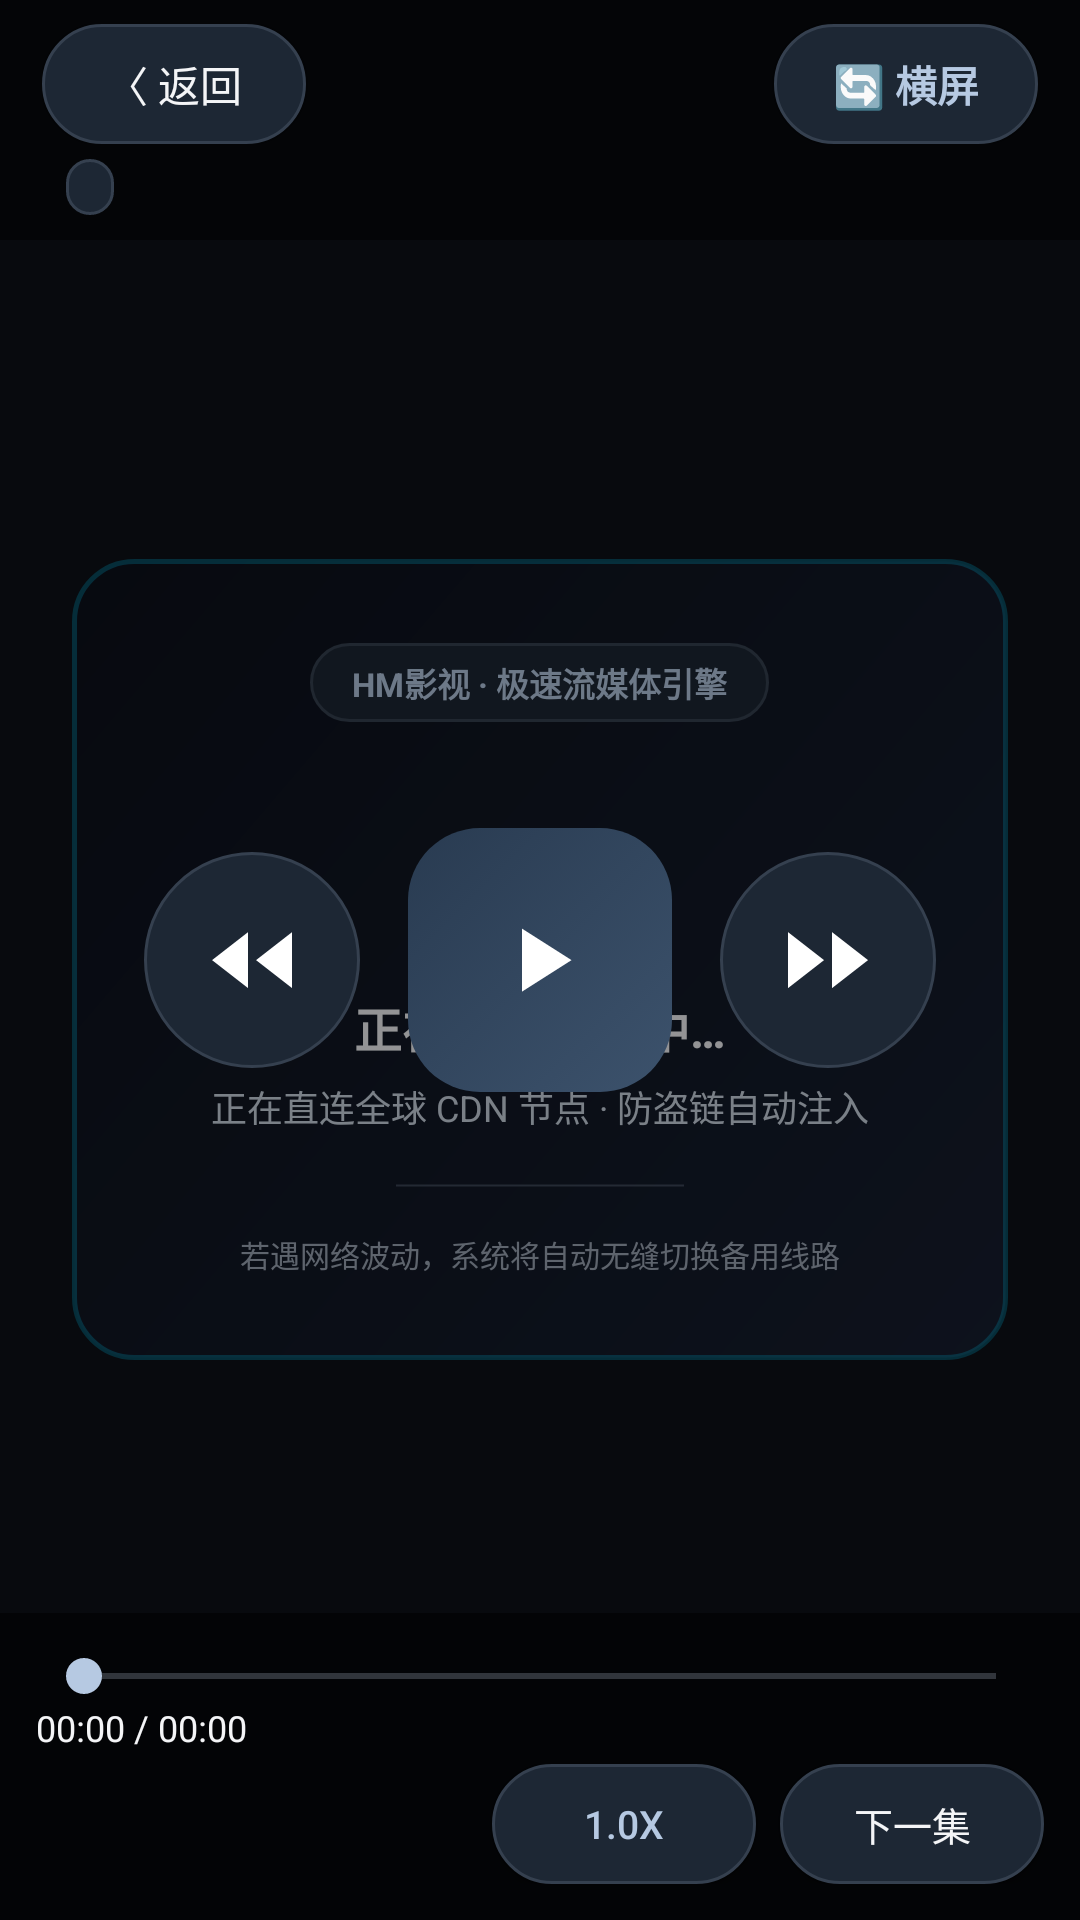

Named icons in this screenshot (1080px x 1920px) and their bounding boxes, bbox=(x1, y1, x2, y2):
前进10秒: bbox=(720, 852, 936, 1068)
后退10秒: bbox=(144, 852, 360, 1068)
播放: bbox=(408, 828, 672, 1092)
